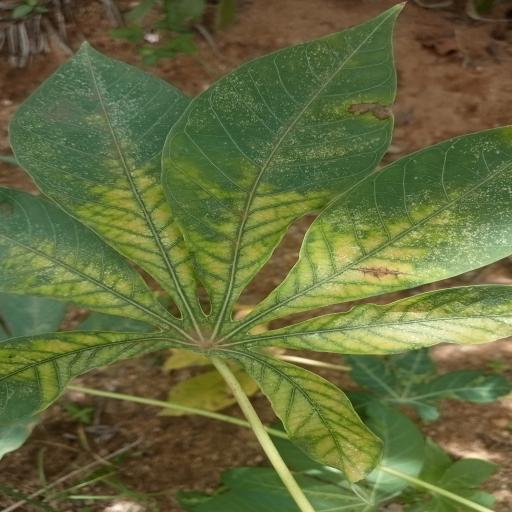Cassava_Mosaic: (3, 0, 512, 487)
